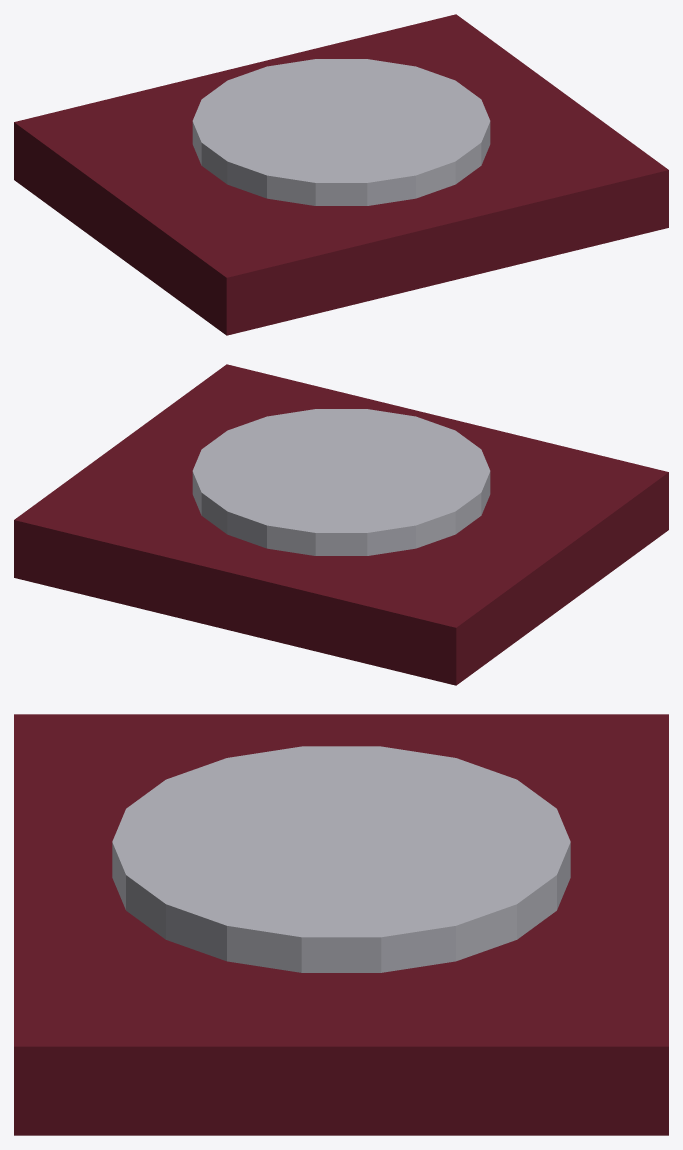
The model's file is TownFind_lil.glb.
3 views of the same model, one above another, from view 1: azimuth 30°, elevation 25°; view 2: azimuth 150°, elevation 25°; view 3: azimuth 270°, elevation 25° (orthographic). The views are drawn at different scales.
Visible parts, largest first — view 1: TownFind_lil.001; view 2: TownFind_lil.001; view 3: TownFind_lil.001.
Part boxes in pixels (left/top/right/bottom): TownFind_lil.001: left=14, top=14, right=668, bottom=335; TownFind_lil.001: left=14, top=364, right=668, bottom=685; TownFind_lil.001: left=14, top=714, right=668, bottom=1135.
Size of the model in its own units: 0.12 by 0.0215 by 0.1.
